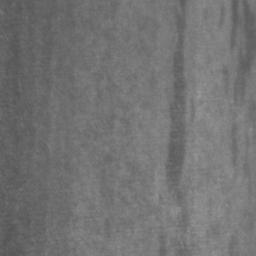Inclusion: (165, 50, 189, 191)
